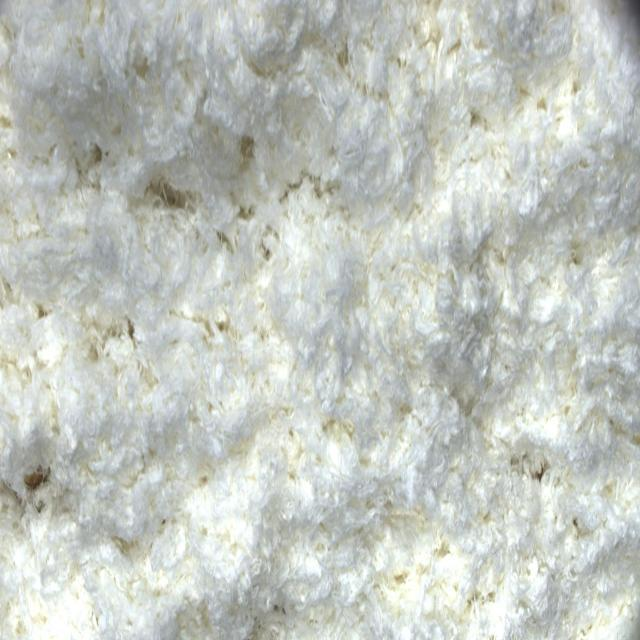dust: (147, 176, 191, 210), (23, 464, 50, 494)
